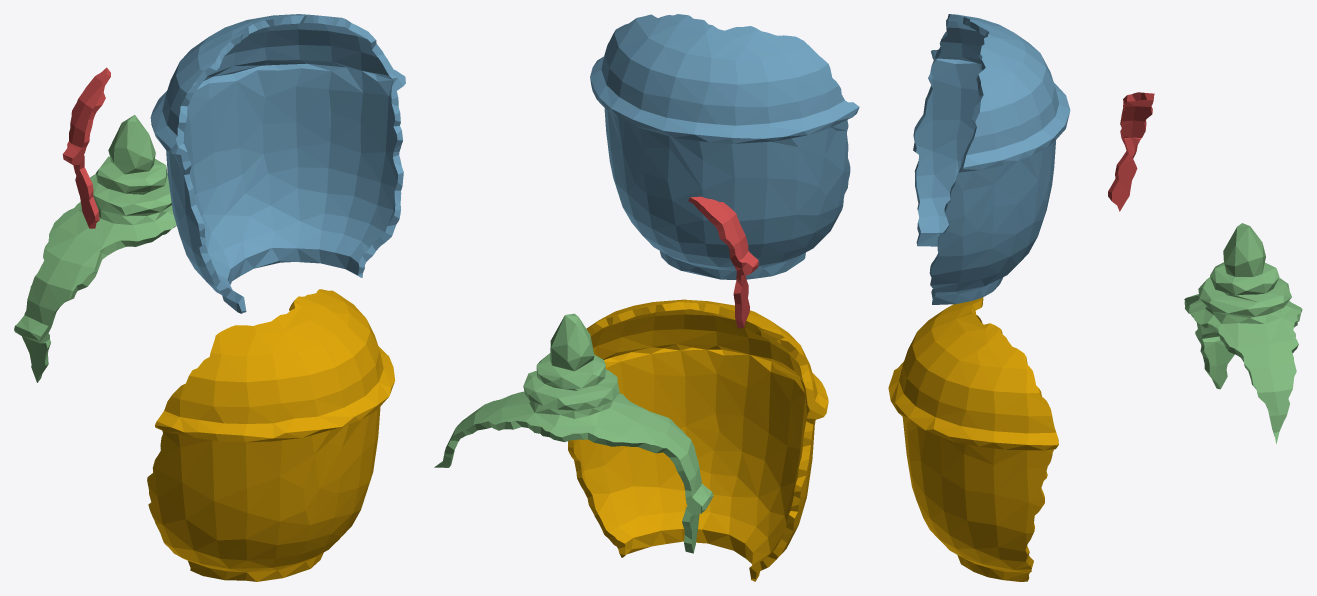
Rendered from mode_3_4pcs_transformed.glb.
3 views of the same model, side by side, from view 1: azimuth 30°, elevation 25°; view 2: azimuth 150°, elevation 25°; view 3: azimuth 270°, elevation 25° (orthographic). The views are drawn at different scales.
Parts seen in each view (by area): view 1: piece_2.obj, piece_0.obj, piece_3.obj, piece_1.obj; view 2: piece_2.obj, piece_0.obj, piece_3.obj, piece_1.obj; view 3: piece_2.obj, piece_0.obj, piece_3.obj, piece_1.obj.
Part boxes in pixels (box(x1,y1,x2,y2)): piece_2.obj: box(150, 14, 405, 313); piece_0.obj: box(147, 289, 395, 581); piece_3.obj: box(14, 115, 176, 382); piece_1.obj: box(62, 67, 110, 228); piece_2.obj: box(590, 14, 859, 279); piece_0.obj: box(568, 299, 828, 581); piece_3.obj: box(434, 313, 713, 553); piece_1.obj: box(688, 196, 758, 328); piece_2.obj: box(913, 14, 1070, 304); piece_0.obj: box(888, 297, 1058, 581); piece_3.obj: box(1184, 223, 1302, 443); piece_1.obj: box(1108, 92, 1154, 211).
Size of the model in its own units: 0.7658 by 1.57 by 1.14.
